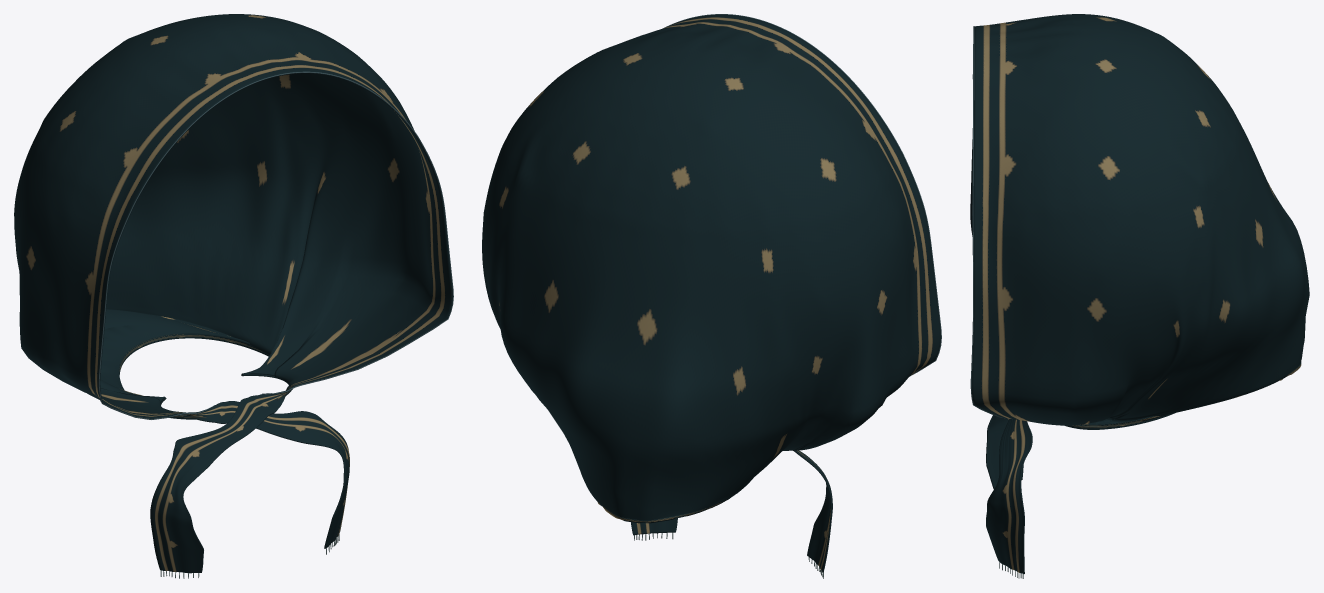
Rendered from Feminine-ponytail-jersey-pashmina249-headgear.glb.
The picture shows the model from 3 angles, left to right: view 1: azimuth 30°, elevation 25°; view 2: azimuth 150°, elevation 25°; view 3: azimuth 270°, elevation 25°; orthographic projection. The views are drawn at different scales.
Parts seen in each view (by area): view 1: 226 headgear / Headwear / continuous woven pashmina239, 226 headgear / Headwear / face edge239; view 2: 226 headgear / Headwear / continuous woven pashmina239, 226 headgear / Headwear / face edge239; view 3: 226 headgear / Headwear / continuous woven pashmina239, 226 headgear / Headwear / face edge239.
Part boxes in pixels (x1,y1,x2,y2): 226 headgear / Headwear / continuous woven pashmina239: (14,14,452,573); 226 headgear / Headwear / face edge239: (98,71,453,419); 226 headgear / Headwear / continuous woven pashmina239: (482,14,940,572); 226 headgear / Headwear / face edge239: (663,14,941,376); 226 headgear / Headwear / continuous woven pashmina239: (970,14,1309,574); 226 headgear / Headwear / face edge239: (970,26,1012,419).
Size of the model in its own units: 1.02 by 1.37 by 0.8331.
Materials: 3 (1 with a texture image).
